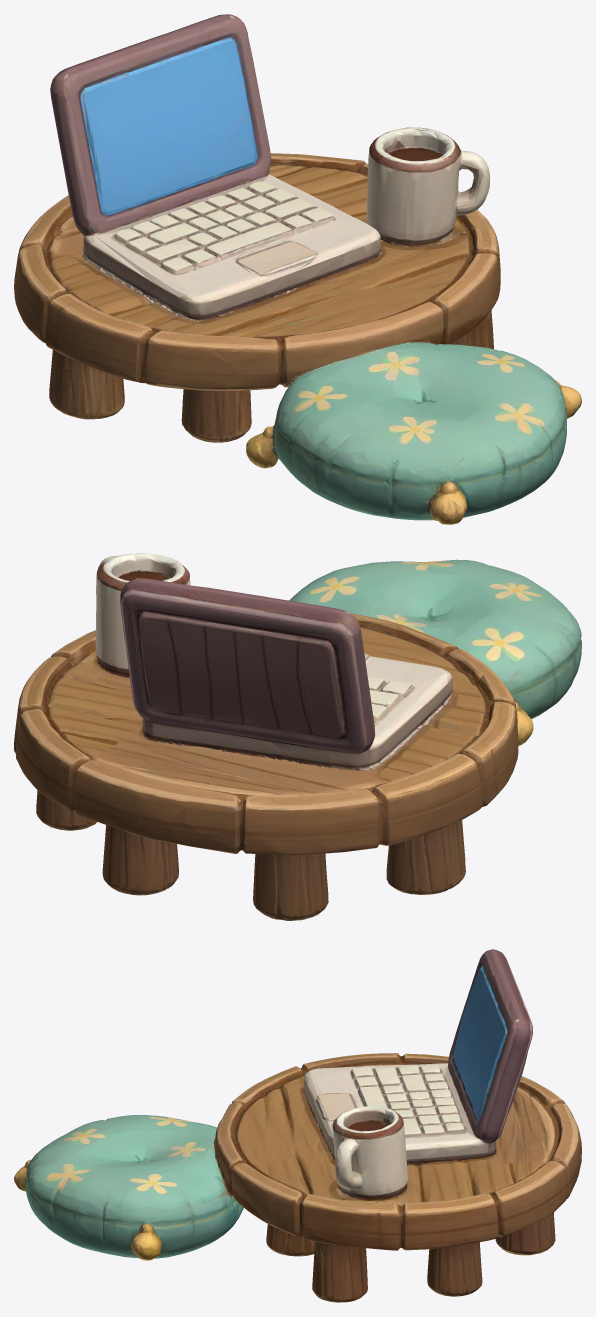
File: round-laptop-station-meshy6-web-v1.glb
3 renders of one model, top to bottom at view 1: azimuth 30°, elevation 25°; view 2: azimuth 150°, elevation 25°; view 3: azimuth 270°, elevation 25°, orthographic. The views are drawn at different scales.
Bounding box in the file's own units: 1.31 × 0.8459 × 1.9.
Materials: 1 (1 with a texture image).
